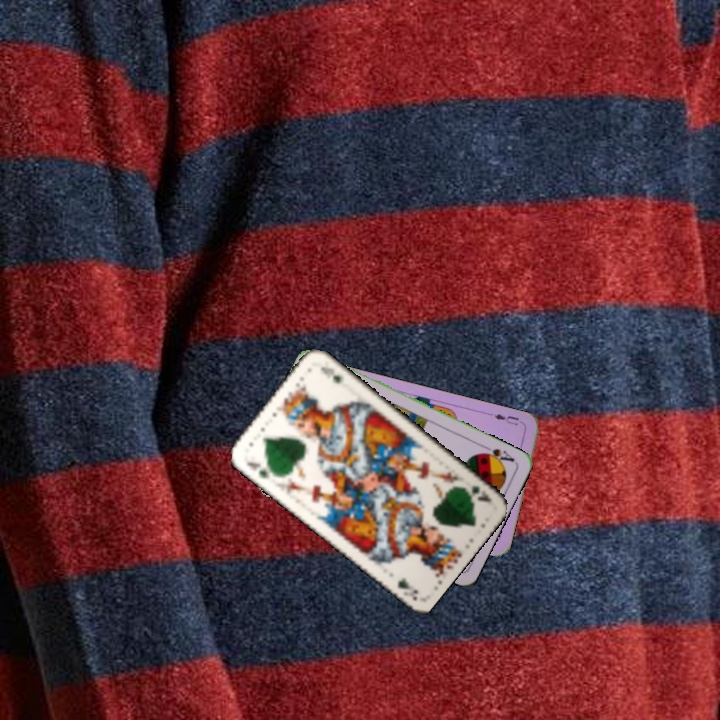EU: (486, 409, 526, 428)
GK: (458, 481, 495, 506), (240, 453, 273, 481)
SA: (476, 441, 517, 467)
